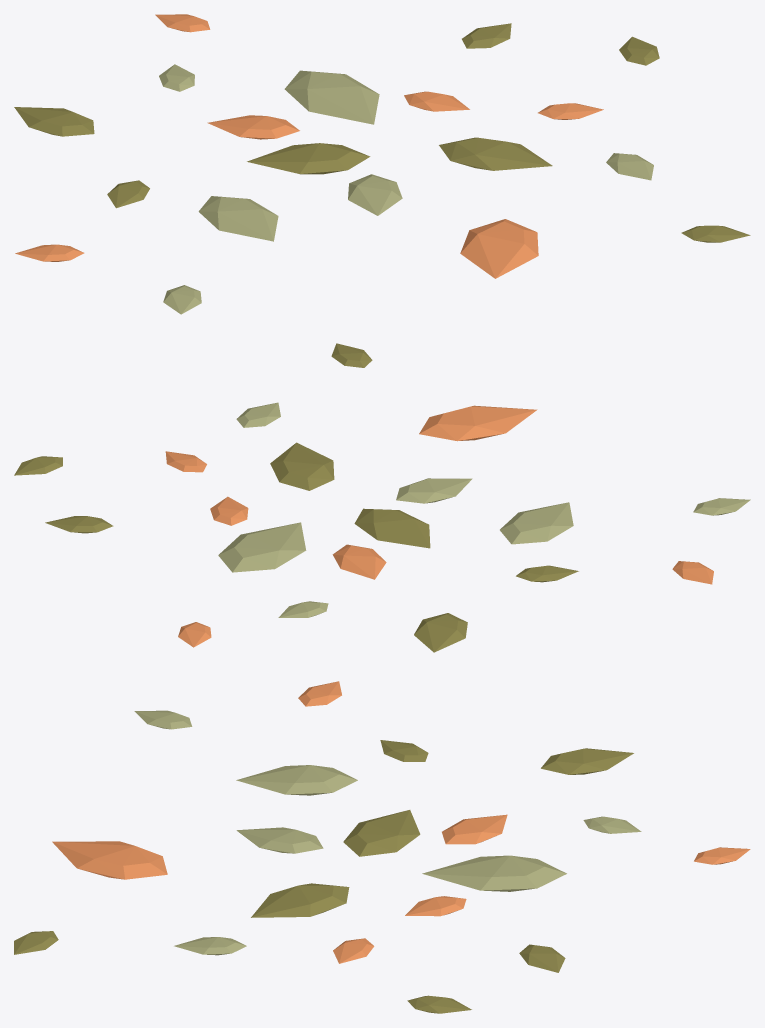
File: LeafPile_Final.fbx
The picture shows the model from 3 angles, top to bottom: view 1: azimuth 30°, elevation 25°; view 2: azimuth 150°, elevation 25°; view 3: azimuth 270°, elevation 25°; orthographic projection. The views are drawn at different scales.
Visible parts, largest first — view 1: LeafPile; view 2: LeafPile; view 3: LeafPile.
Boxes of the visible parts, box(x1,y1,x2,y2) form: LeafPile: box(14, 14, 750, 314); LeafPile: box(14, 343, 750, 652); LeafPile: box(14, 681, 750, 1013).
Size of the model in its own units: 89.05 by 1.96 by 83.39.
